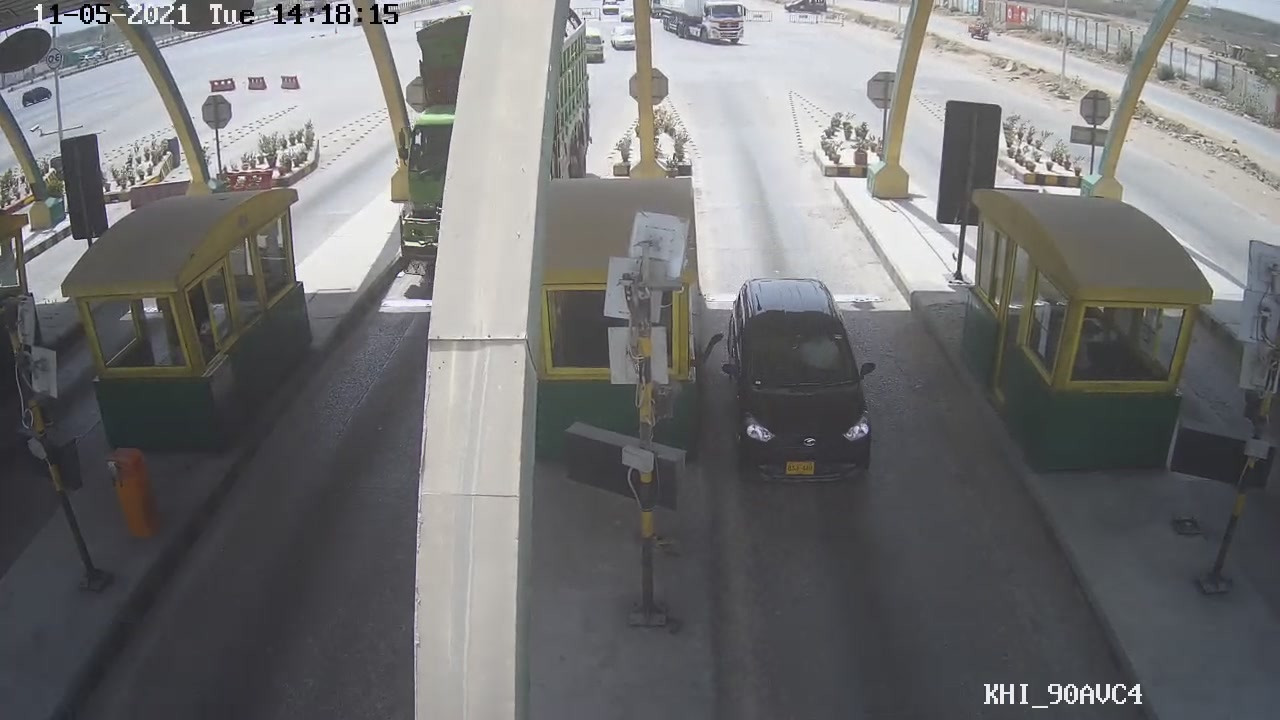F1: (718, 273, 882, 492)
